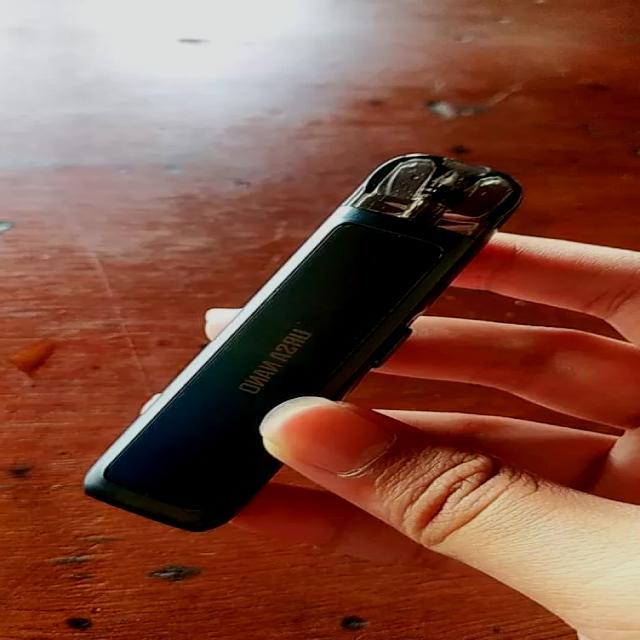Hazard: (81, 150, 522, 533)
